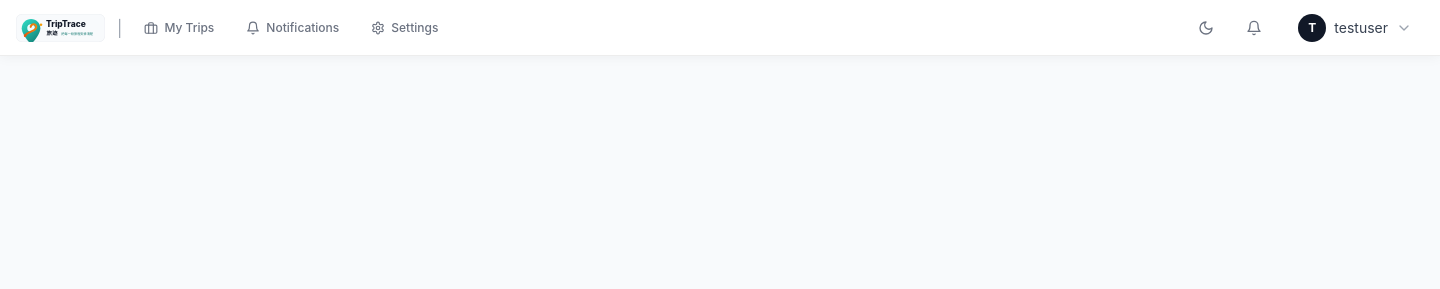
it: Navbar › FE-COMP-NAVBAR-016: app version shown in user menu
Click the text "testuser" at [1361, 28], box [1334, 18, 1388, 38]
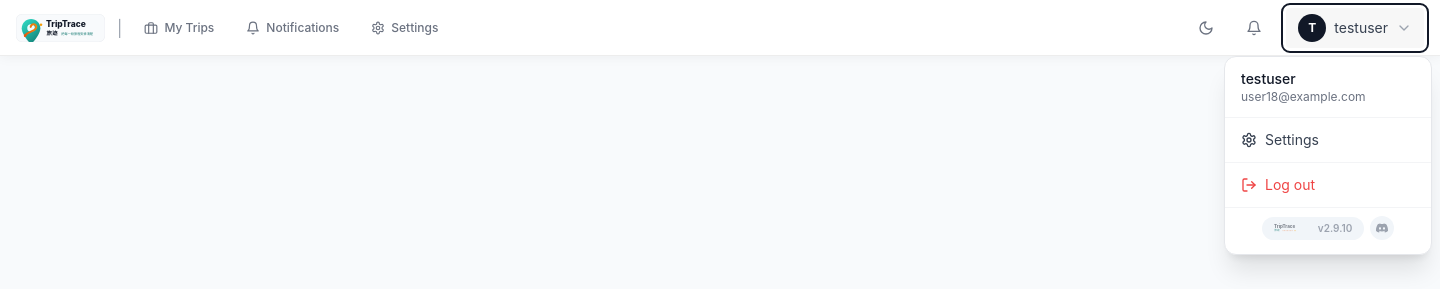
Expected: the text "v2.9.10" is shown, [1318, 220, 1352, 236]
